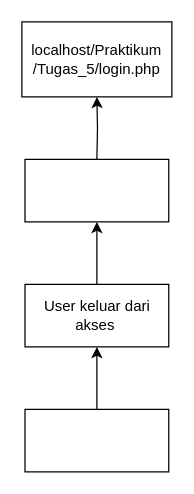
This 194x494 diagram has some shape labels left out. Here are the shapes that lost their labels. From the top down, the centre of each, then its label:
the point at 96,190: Menampilkan Halaman Login
the point at 96,440: Halaman Logout
